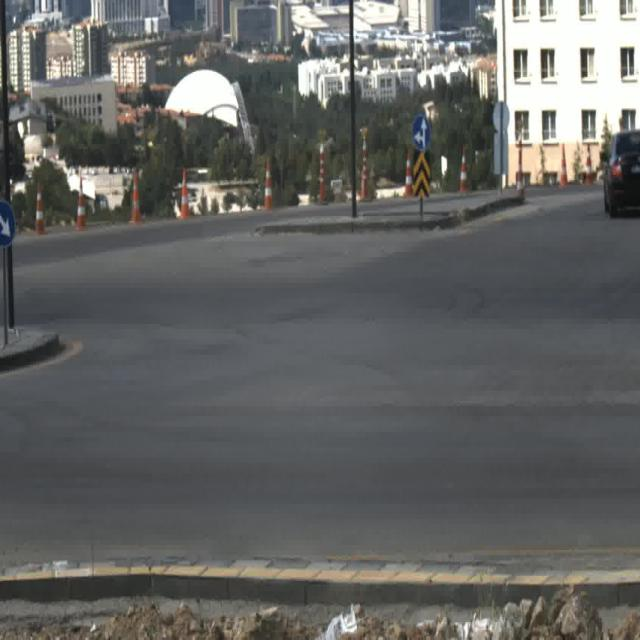Car: (600, 129, 640, 215)
